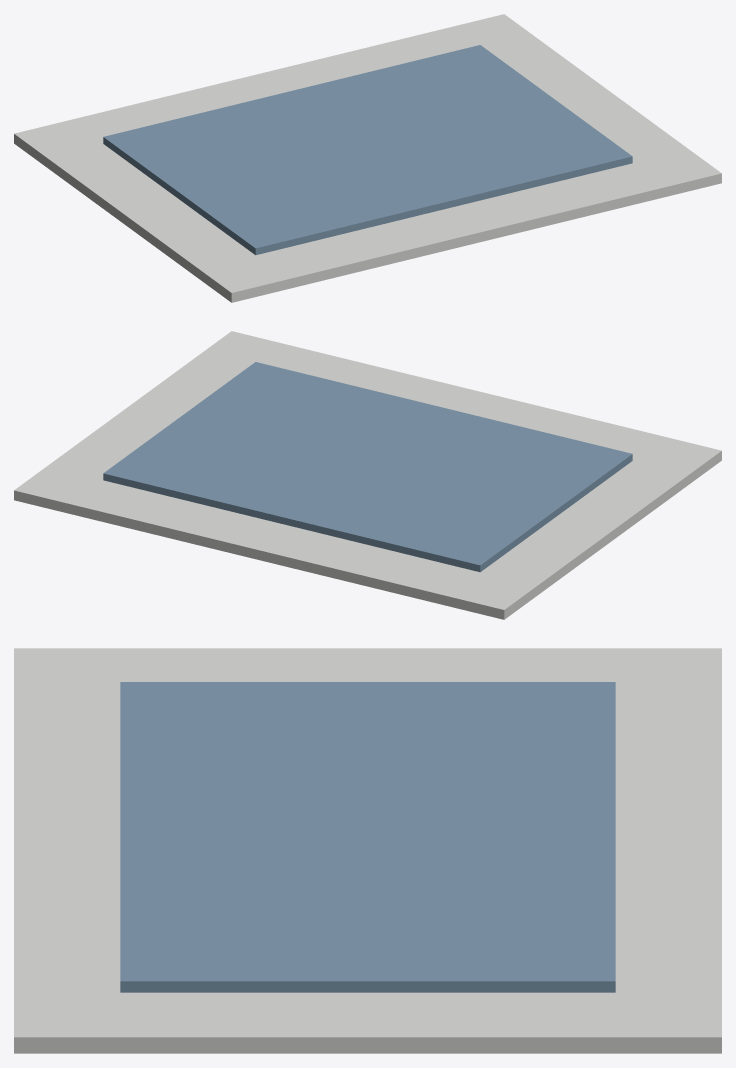
The model's file is held_build_plan.glb.
The picture shows the model from 3 angles, top to bottom: view 1: azimuth 30°, elevation 25°; view 2: azimuth 150°, elevation 25°; view 3: azimuth 270°, elevation 25°; orthographic projection. The views are drawn at different scales.
Parts seen in each view (by area): view 1: held_build_plan; view 2: held_build_plan; view 3: held_build_plan.
Boxes of the visible parts, bbox=[...] form: held_build_plan: bbox=[14, 14, 721, 302]; held_build_plan: bbox=[14, 331, 721, 619]; held_build_plan: bbox=[14, 648, 721, 1053].
Size of the model in its own units: 0.26 by 0.0085 by 0.2.
